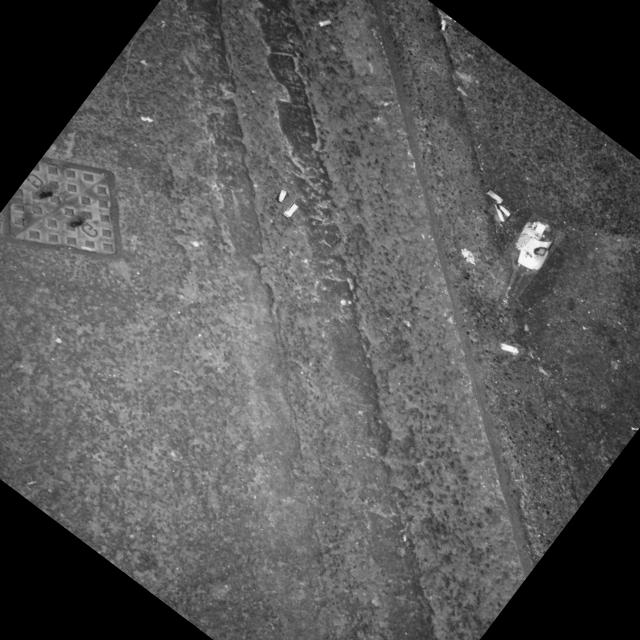Cigarette: (493, 203, 503, 223), (284, 204, 298, 218), (500, 343, 517, 354), (487, 190, 501, 203), (497, 205, 509, 217), (277, 189, 286, 203), (440, 21, 446, 32)
Glass bottle: (498, 218, 555, 307)
